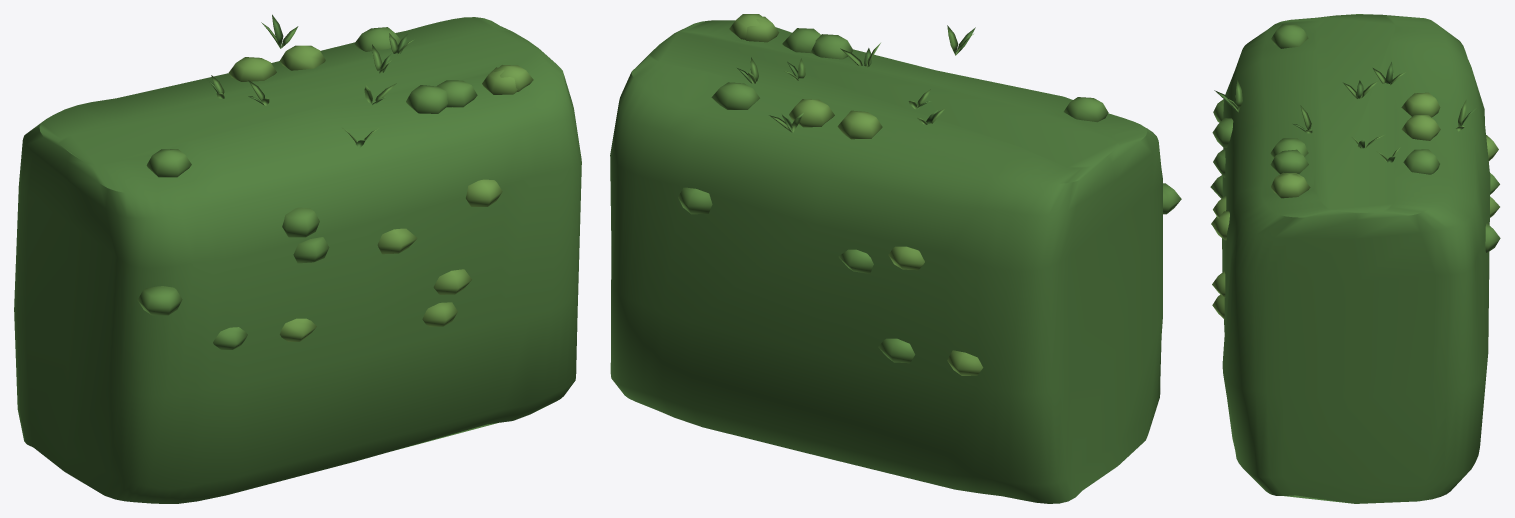
The model's file is hedge.glb.
3 views of the same model, side by side, from view 1: azimuth 30°, elevation 25°; view 2: azimuth 150°, elevation 25°; view 3: azimuth 270°, elevation 25° (orthographic). The views are drawn at different scales.
Parts seen in each view (by area): view 1: hedge, sprigs; view 2: hedge, sprigs; view 3: hedge, sprigs.
Part boxes in pixels (left/top/right/bottom): hedge: left=14, top=17, right=581, bottom=503; sprigs: left=207, top=14, right=413, bottom=148; hedge: left=610, top=14, right=1181, bottom=503; sprigs: left=737, top=25, right=975, bottom=132; hedge: left=1210, top=14, right=1500, bottom=503; sprigs: left=1214, top=62, right=1476, bottom=162.
Size of the model in its own units: 1.55 by 1.15 by 0.92.
